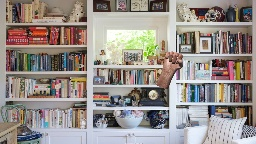Pugno: (163, 50, 184, 70)
